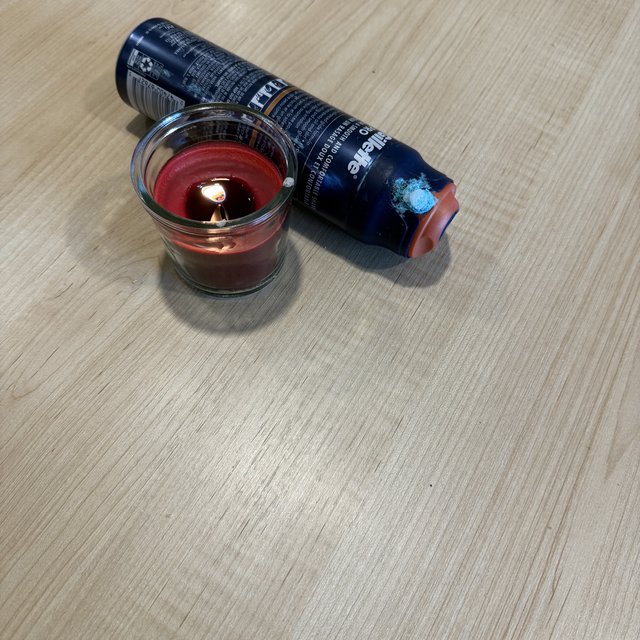Aerosol: (117, 17, 463, 261)
Candle: (131, 103, 302, 300)
